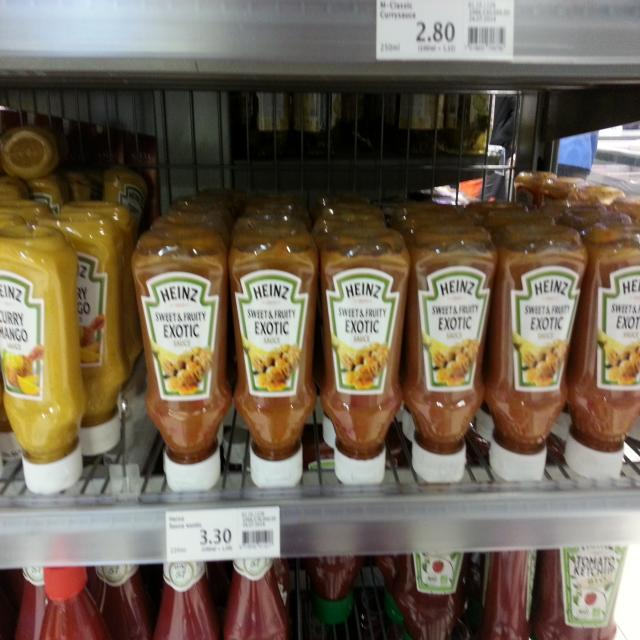Sauce: (130, 224, 232, 490), (486, 226, 588, 482), (405, 227, 497, 482), (228, 228, 316, 490), (0, 224, 84, 496), (320, 227, 408, 486), (566, 221, 640, 479)
